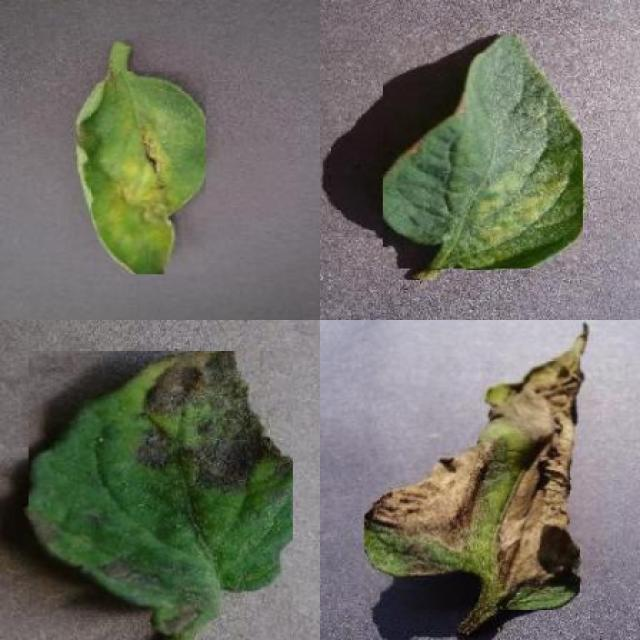Early Blight: (28, 350, 293, 640)
Late Blight: (365, 320, 591, 610), (72, 72, 205, 275)
Spider Mites: (383, 35, 583, 269)
